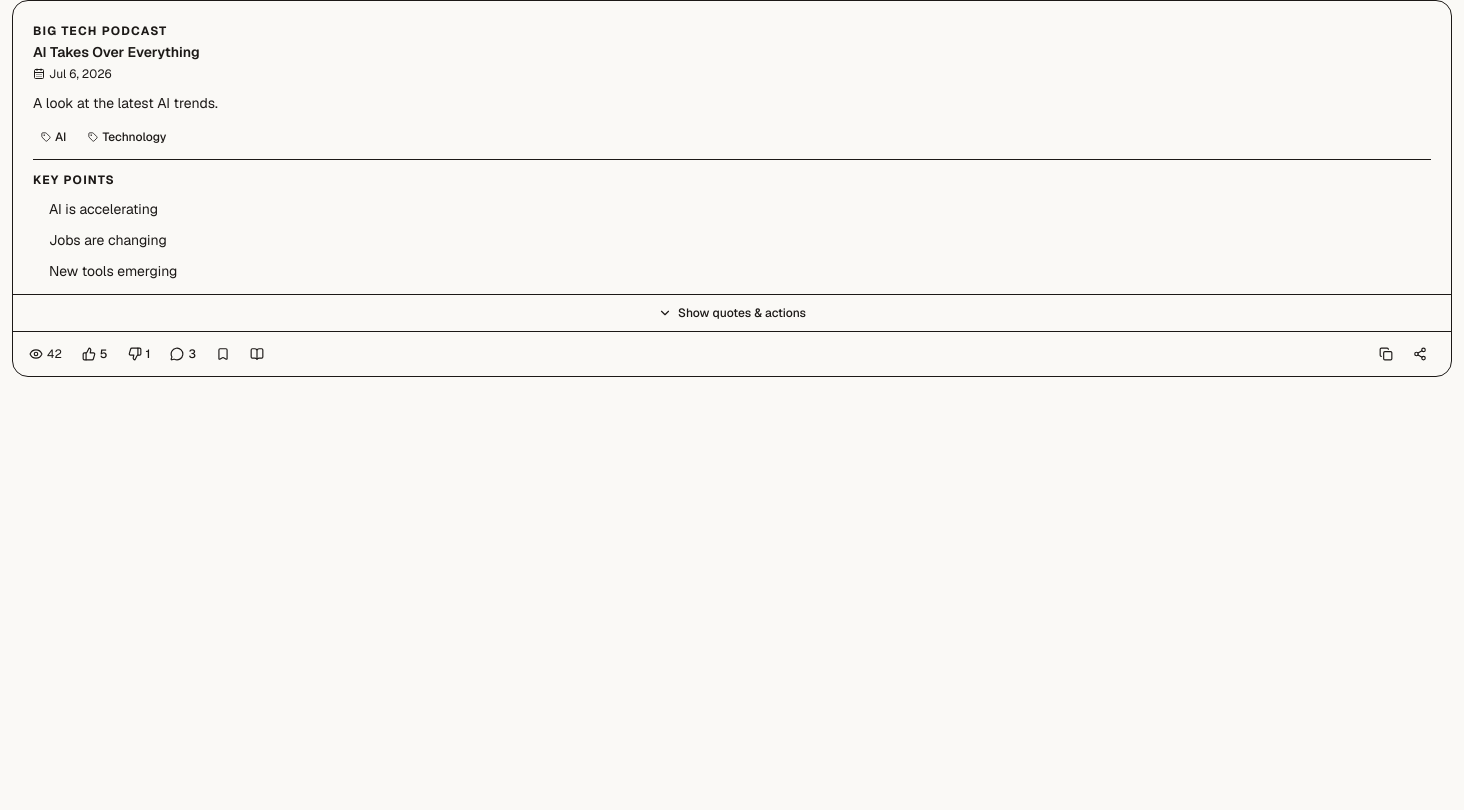
InsightCard — engagement interactions › expand button reveals quotes and action items
Expected: the text "The future is already here" is not shown
Click the button "Show quotes & actions" at (732, 313), box top-left (13, 294), bottom-right (1451, 331)
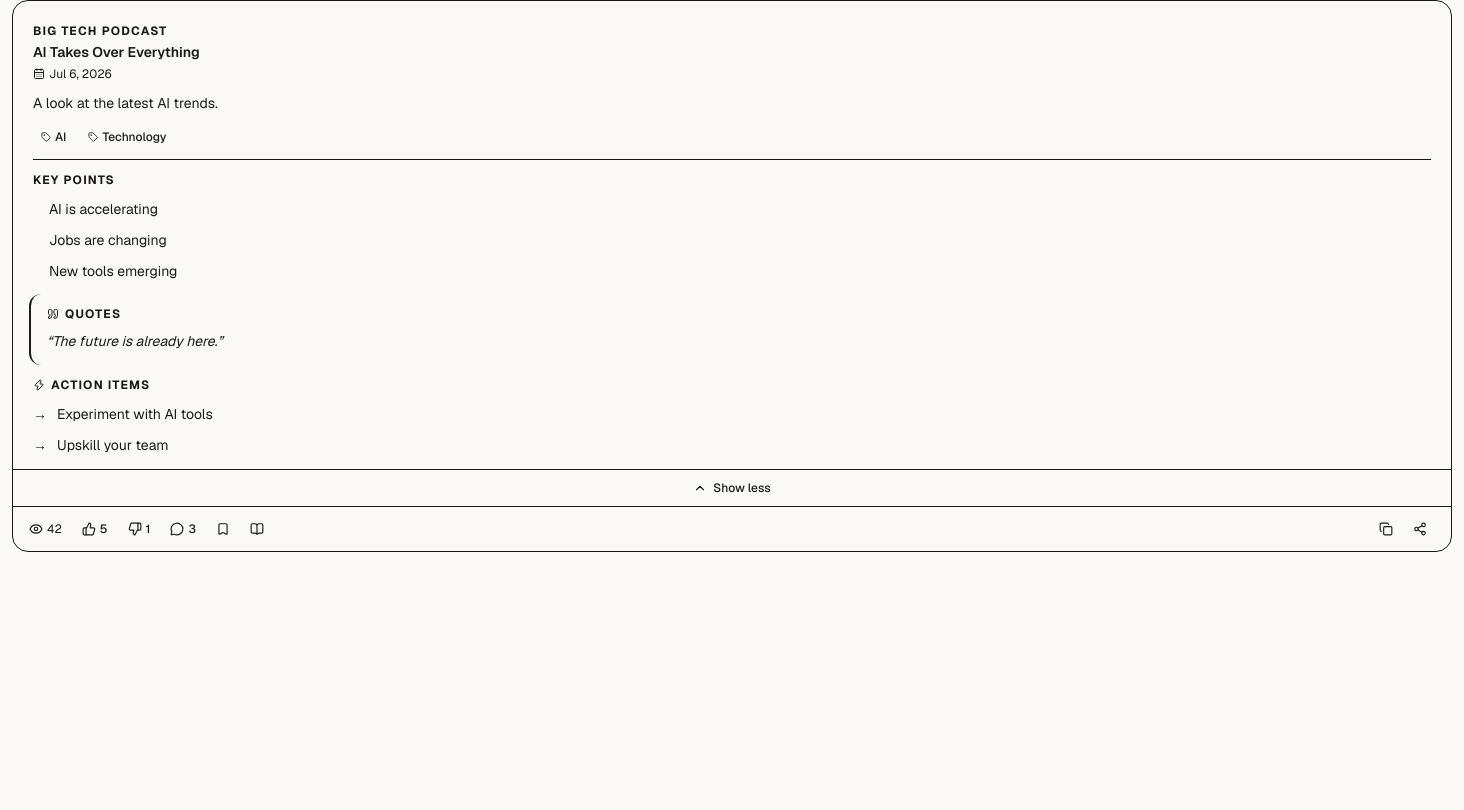
Expected: the text "The future is already here." is shown, top-left (52, 332), bottom-right (218, 350)
Expected: the text "Experiment with AI tools" is shown, top-left (57, 403), bottom-right (213, 426)
